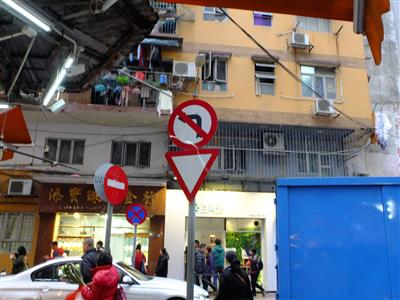noLeftTurn: (162, 95, 223, 150)
noStopping: (123, 201, 150, 226)
stop: (101, 162, 129, 205)
yield: (160, 141, 222, 204)
